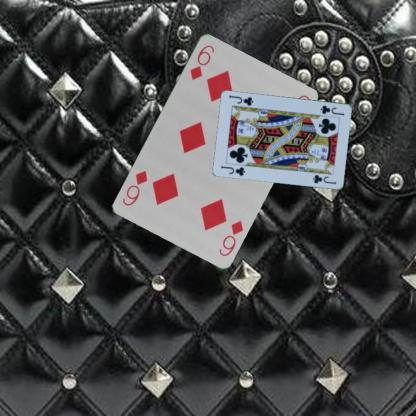6d: (187, 42, 216, 82), (216, 217, 244, 258)
Jc: (318, 102, 346, 117), (218, 163, 247, 177)
